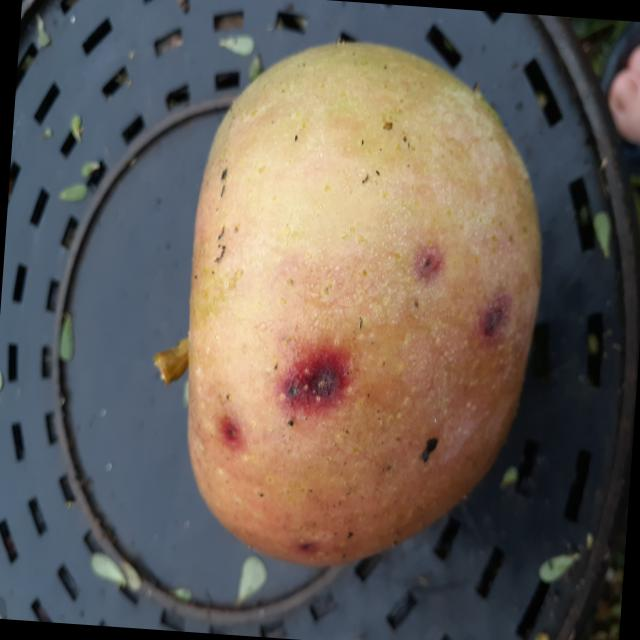rotten: (166, 24, 565, 591)
